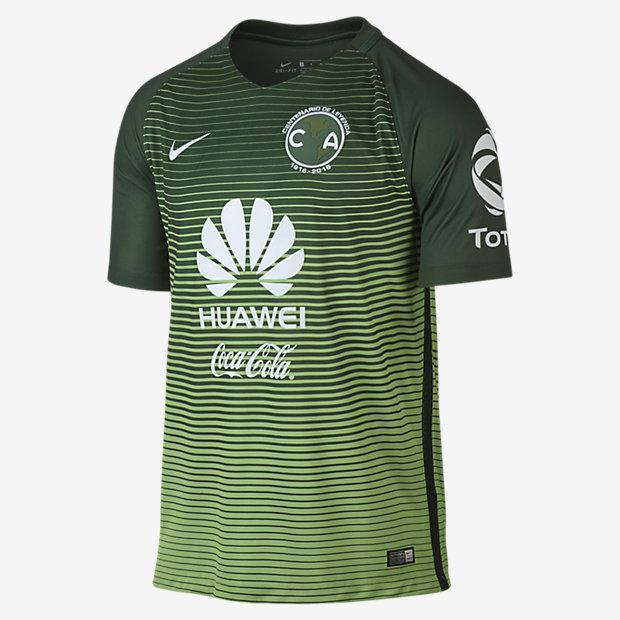teeshirt: (75, 8, 598, 620)
